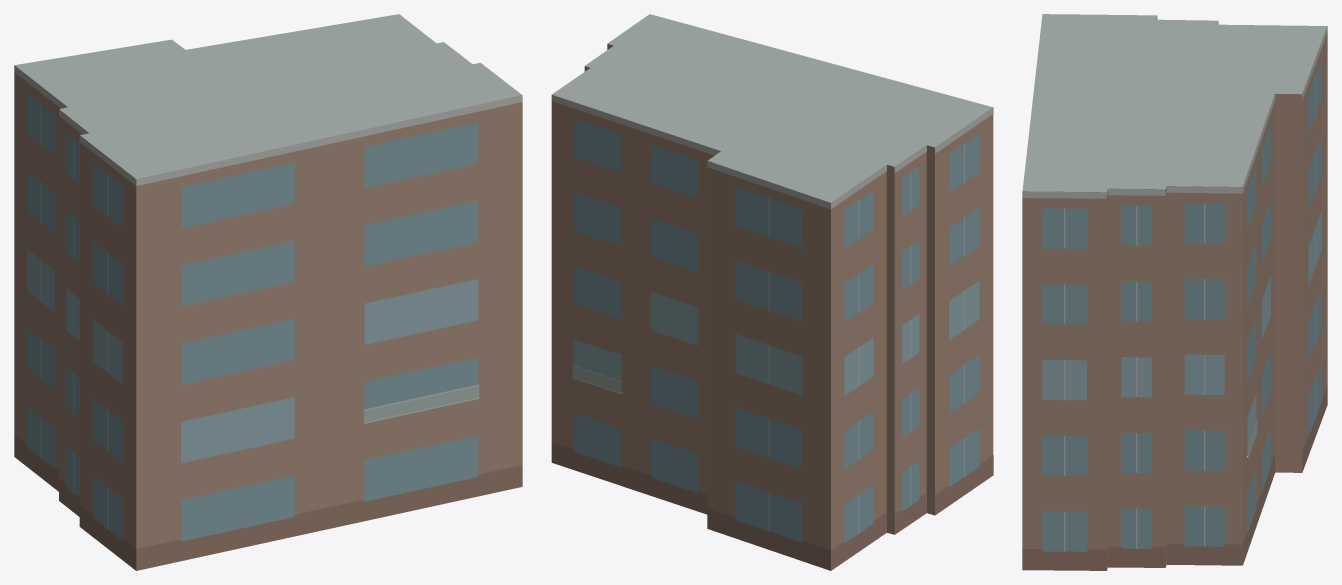
The model's file is survey-upis-32632391.glb.
The picture shows the model from 3 angles, left to right: view 1: azimuth 30°, elevation 25°; view 2: azimuth 150°, elevation 25°; view 3: azimuth 270°, elevation 25°; orthographic projection. The views are drawn at different scales.
Parts seen in each view (by area): view 1: survey-upis-32632391.tmp; view 2: survey-upis-32632391.tmp; view 3: survey-upis-32632391.tmp.
Part boxes in pixels (bbox=[...]): survey-upis-32632391.tmp: bbox=[14, 14, 522, 570]; survey-upis-32632391.tmp: bbox=[551, 14, 993, 570]; survey-upis-32632391.tmp: bbox=[1022, 14, 1327, 570].
Bounding box in the file's own units: 14.09 × 13.95 × 10.2.
